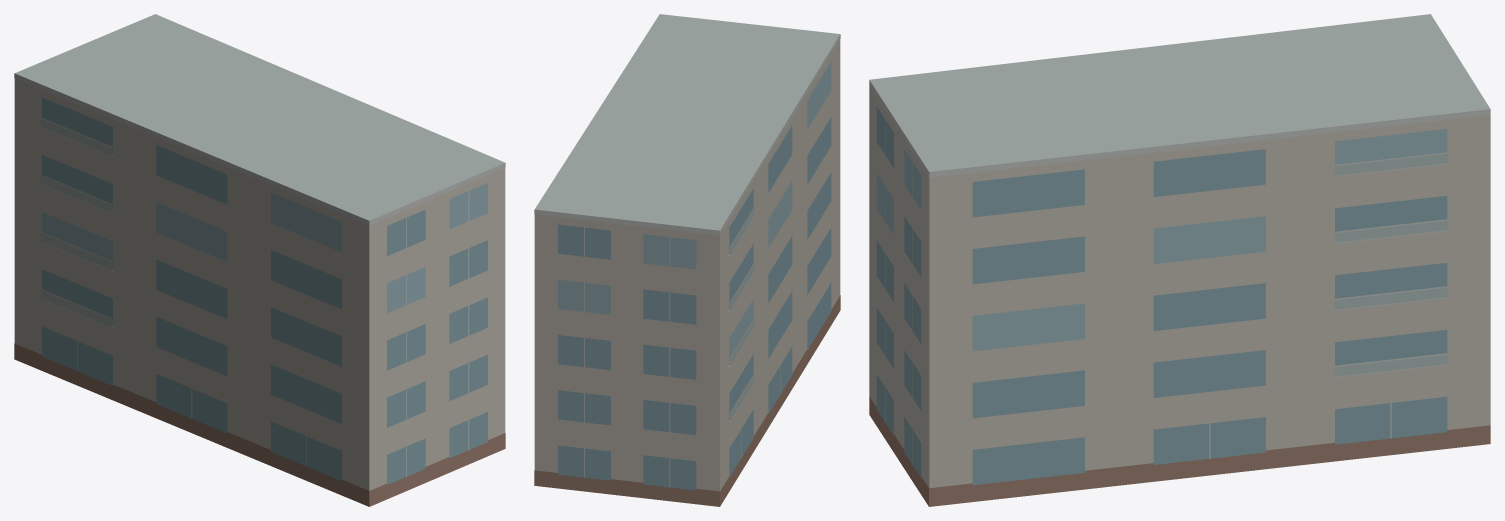
File: survey-upis-32561270.glb
The picture shows the model from 3 angles, left to right: view 1: azimuth 30°, elevation 25°; view 2: azimuth 150°, elevation 25°; view 3: azimuth 270°, elevation 25°; orthographic projection. The views are drawn at different scales.
Visible parts, largest first — view 1: survey-upis-32561270.tmp; view 2: survey-upis-32561270.tmp; view 3: survey-upis-32561270.tmp.
Part boxes in pixels (x1,y1,x2,y2): survey-upis-32561270.tmp: [14, 14, 505, 506]; survey-upis-32561270.tmp: [534, 14, 840, 506]; survey-upis-32561270.tmp: [869, 14, 1490, 506].
Size of the model in its own units: 14.08 by 13.9 by 23.38.
